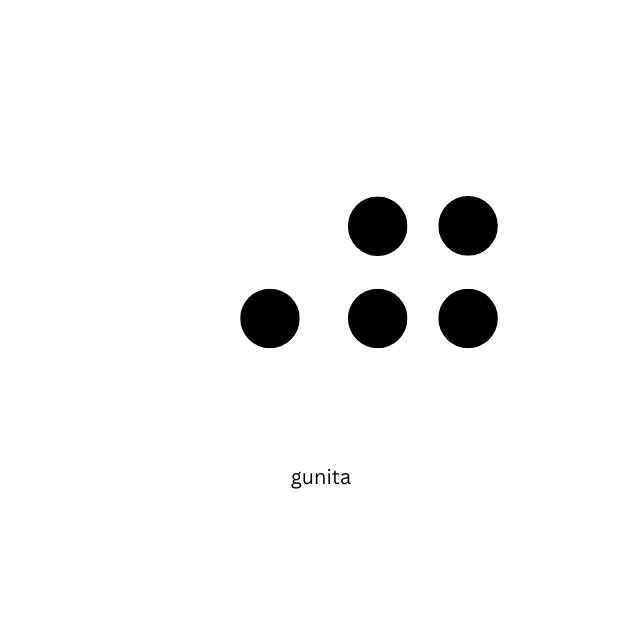dot_5: (149, 189, 302, 448)
two_cell_alphabet_gunita: (346, 193, 499, 452)
